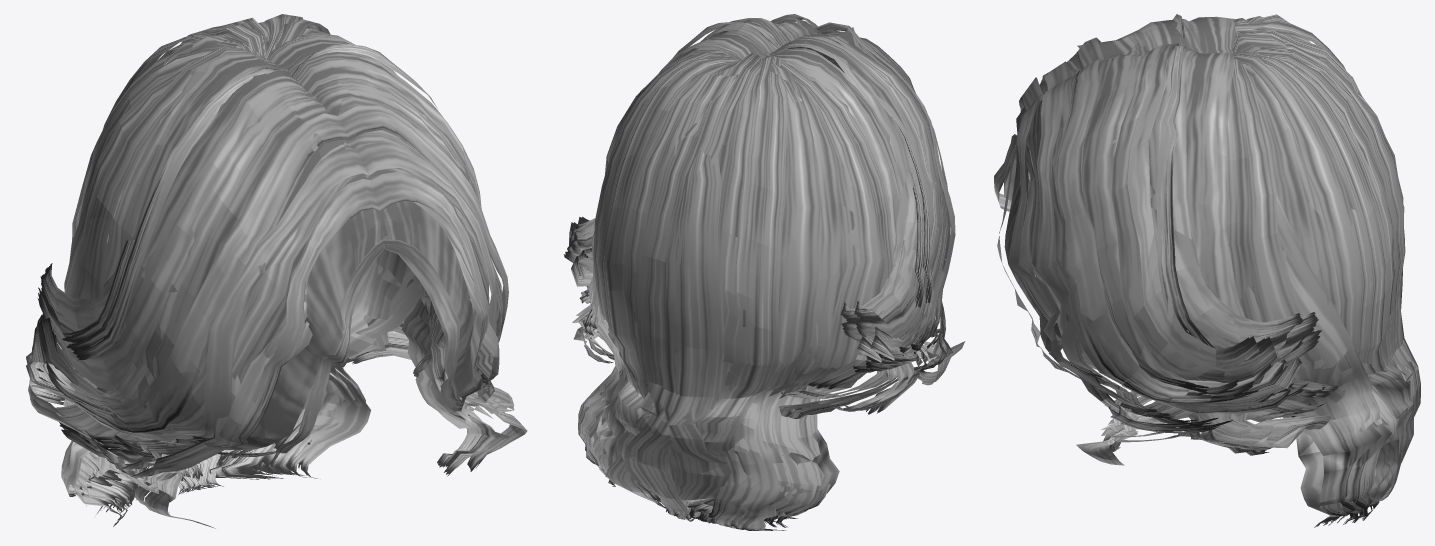
File: daz_hair_curtain_wave.glb
3 renders of one model, left to right at view 1: azimuth 30°, elevation 25°; view 2: azimuth 150°, elevation 25°; view 3: azimuth 270°, elevation 25°, orthographic. The views are drawn at different scales.
Visible parts, largest first — view 1: daz_hair_curtain_wave; view 2: daz_hair_curtain_wave; view 3: daz_hair_curtain_wave.
Part boxes in pixels (x1=…): daz_hair_curtain_wave: x1=26, y1=14, x2=527, y2=528; daz_hair_curtain_wave: x1=563, y1=14, x2=965, y2=530; daz_hair_curtain_wave: x1=994, y1=14, x2=1420, y2=527.
Bounding box in the file's own units: 0.2293 × 0.2529 × 0.2148.
Materials: 1 (1 with a texture image).
